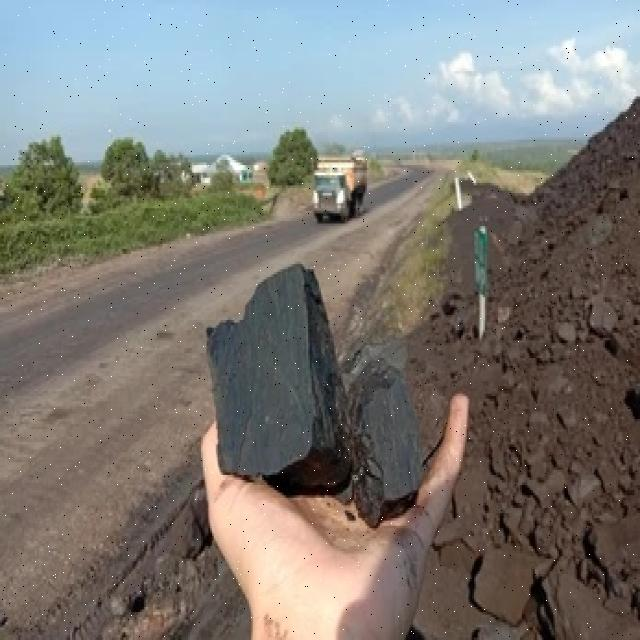Sedimentary: (203, 269, 431, 523)
